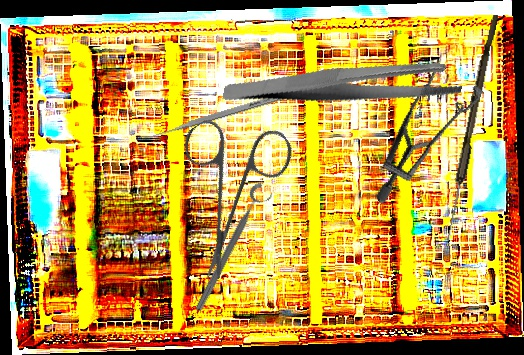Dressing Forceps: (222, 20, 466, 148)
Fixation Ring: (190, 179, 277, 318)
Iris Scissors: (132, 88, 331, 284)
Pusher: (138, 77, 334, 144)
Speculum: (335, 48, 509, 206)
Surgical Spoon: (443, 13, 499, 242)
